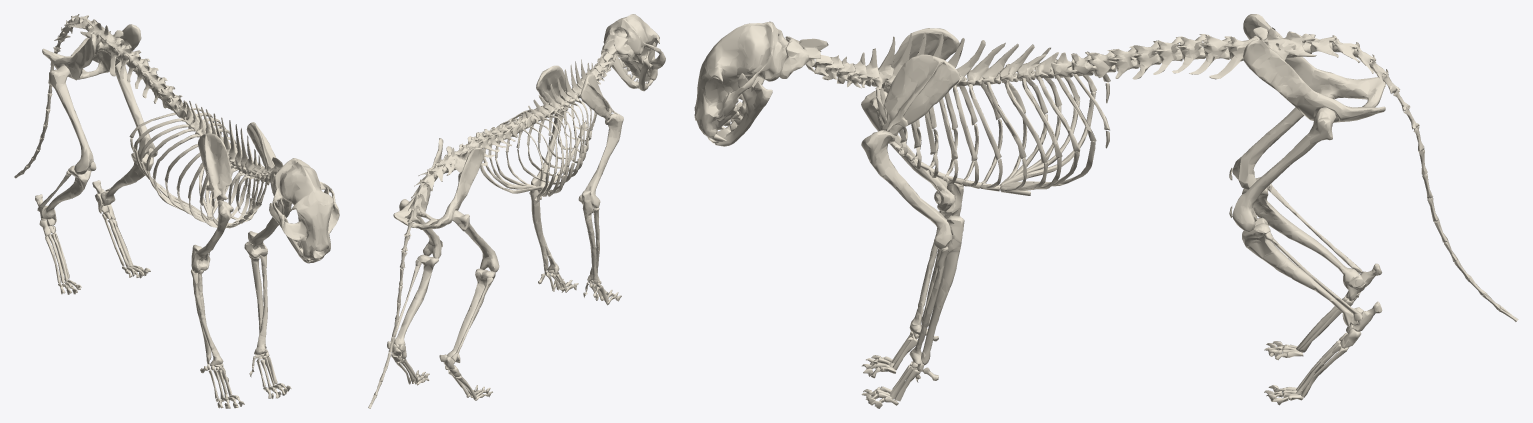
File: feline-skeleton-westerly-detail-d0a582d12437.glb
3 views of the same model, side by side, from view 1: azimuth 30°, elevation 25°; view 2: azimuth 150°, elevation 25°; view 3: azimuth 270°, elevation 25° (orthographic). The views are drawn at different scales.
Parts seen in each view (by area): view 1: specimen; view 2: specimen; view 3: specimen.
Part boxes in pixels (box(x1,y1,x2,y2)): specimen: box(14, 14, 339, 408); specimen: box(368, 14, 665, 408); specimen: box(694, 14, 1518, 408).
Size of the model in its own units: 0.333 by 0.9775 by 2.
